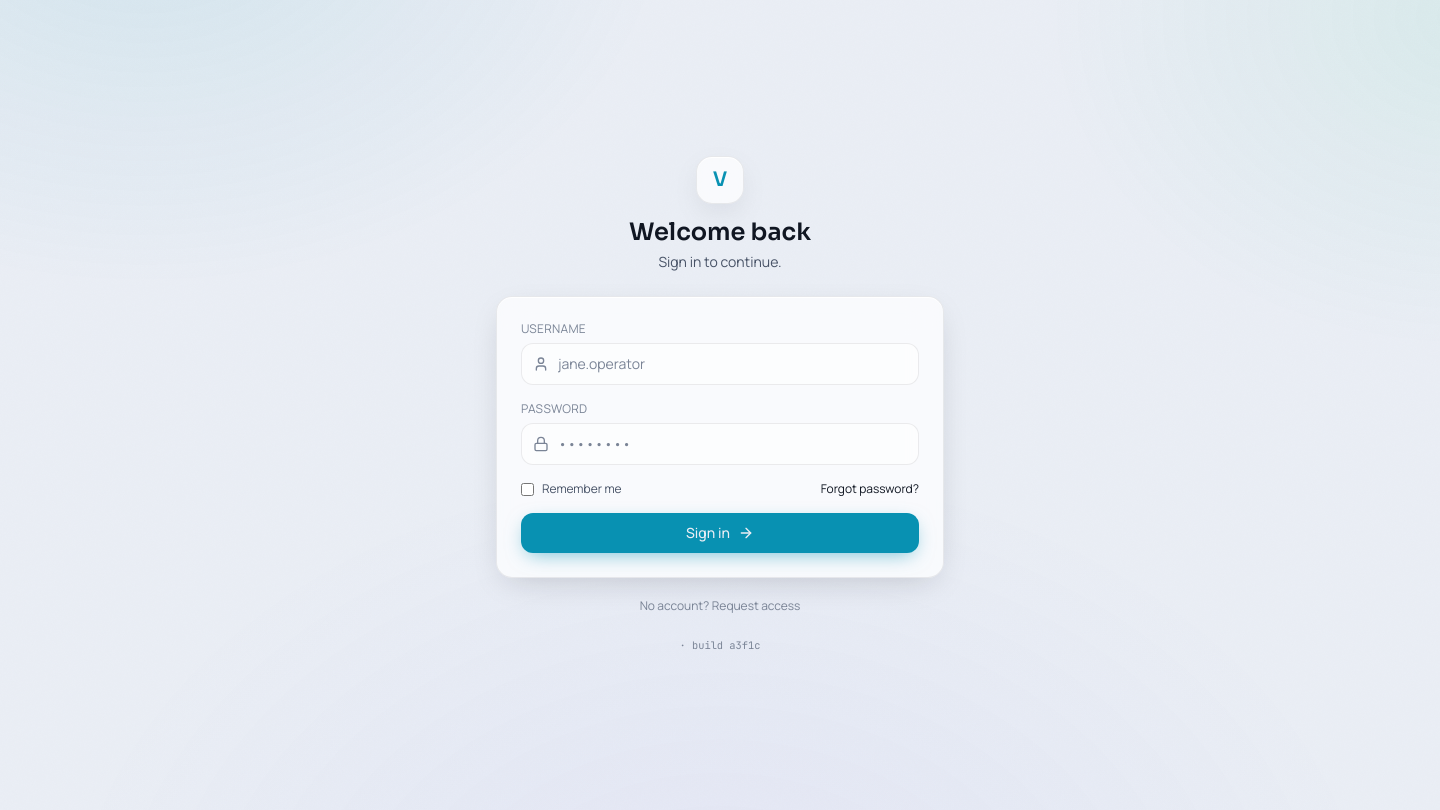
Test case: LoginPage › Form Validation › shows a combined error when submitting with an empty password
Type "testuser" into the field labelled "USERNAME". click: (720, 364)
box: [521,343,919,385]
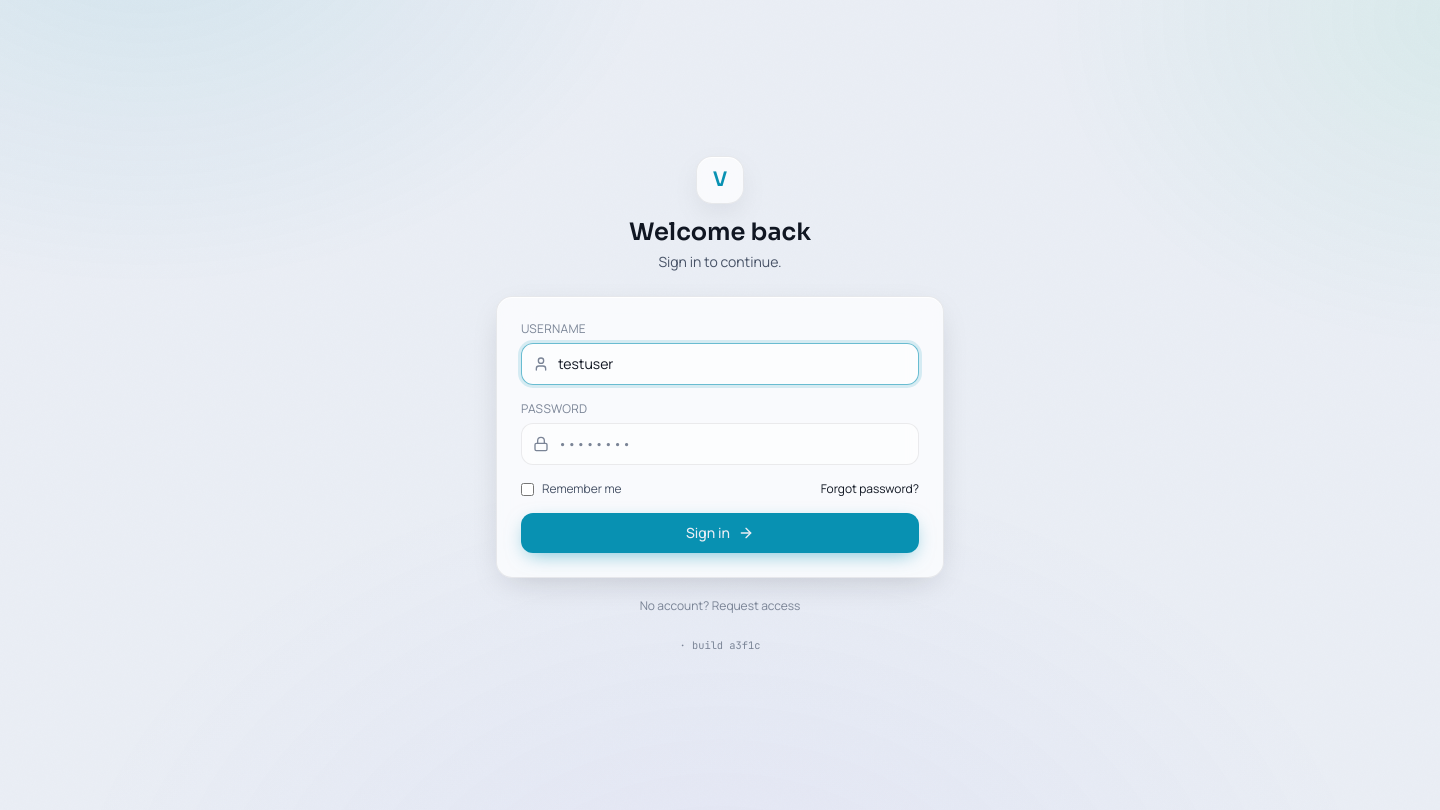
Click the button "Sign in". click: (720, 533)
box: [521,513,919,553]
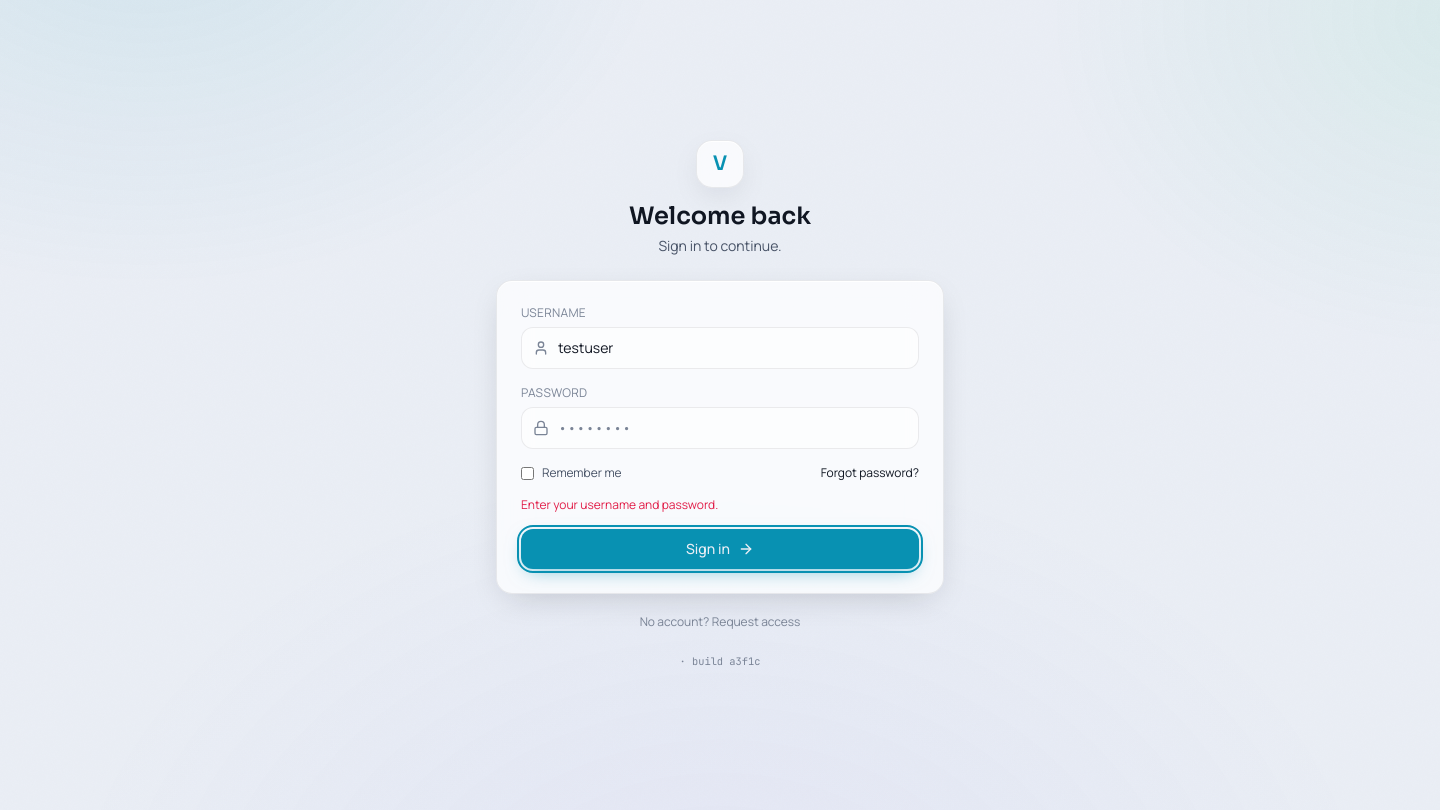
Now the text "Enter your username and password." is shown, box [521,496,718,513]
